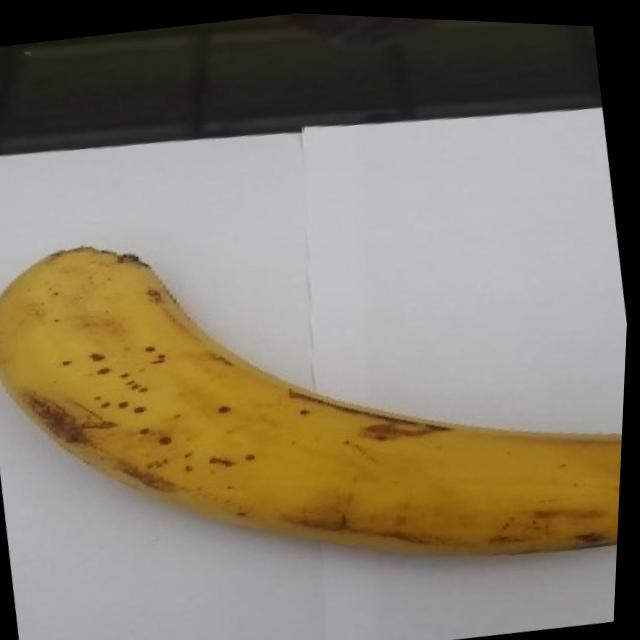Banana: (0, 159, 634, 635)
